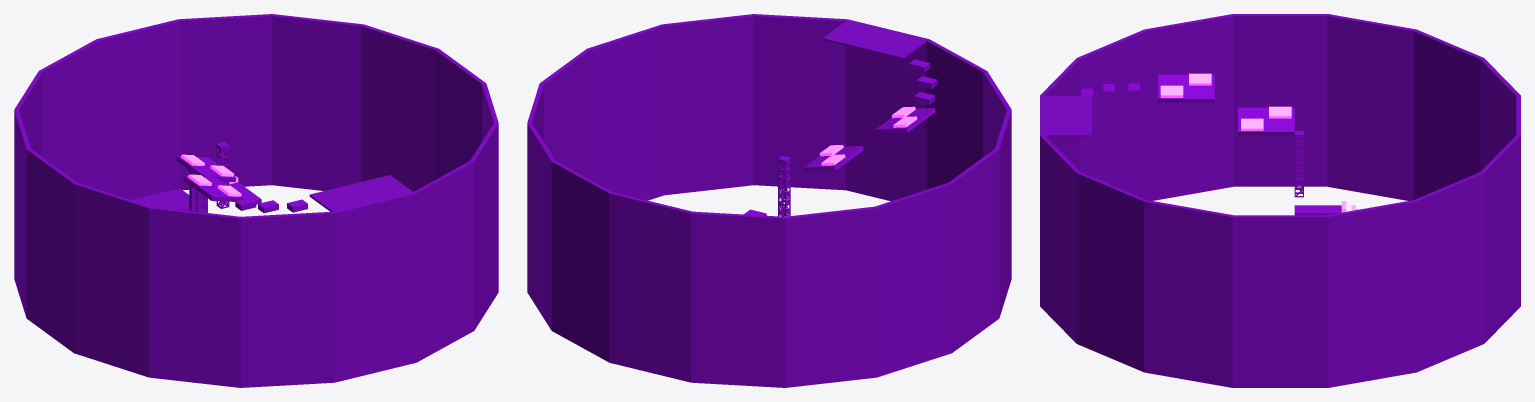
The model's file is Stage_7.fbx.
3 views of the same model, side by side, from view 1: azimuth 30°, elevation 25°; view 2: azimuth 150°, elevation 25°; view 3: azimuth 270°, elevation 25° (orthographic).
Visible parts, largest first — view 1: stage_7, stage_7_deads, stage_7_ladders; view 2: stage_7, stage_7_deads, stage_7_ladders; view 3: stage_7, stage_7_deads, stage_7_ladders.
Boxes of the visible parts, <box> form: stage_7: <box>14,14,498,387</box>; stage_7_deads: <box>180,154,241,196</box>; stage_7_ladders: <box>195,147,229,212</box>; stage_7: <box>527,14,1011,387</box>; stage_7_deads: <box>819,106,917,165</box>; stage_7_ladders: <box>778,160,790,216</box>; stage_7: <box>1040,14,1520,387</box>; stage_7_deads: <box>1160,73,1355,212</box>; stage_7_ladders: <box>1294,137,1303,197</box>.
Size of the model in its own units: 102 by 102 by 40.
